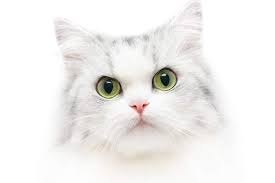Gato: (39, 5, 239, 168)
